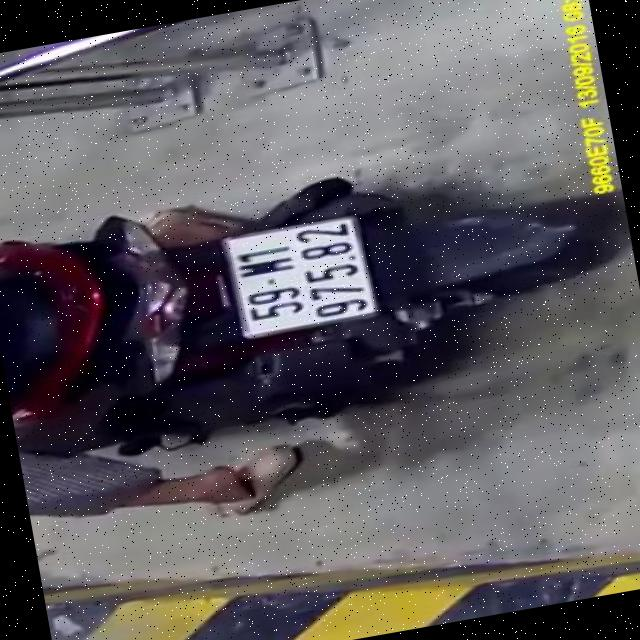license_plate: (224, 212, 378, 341)
